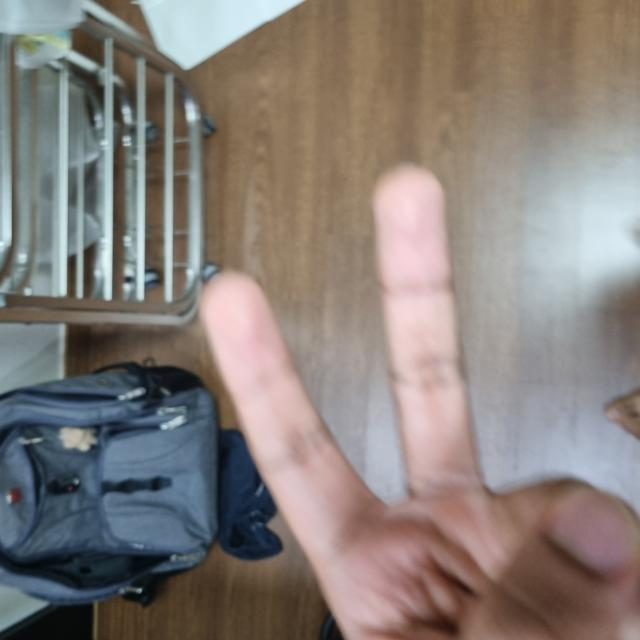Scissors: (0, 211, 472, 639)
